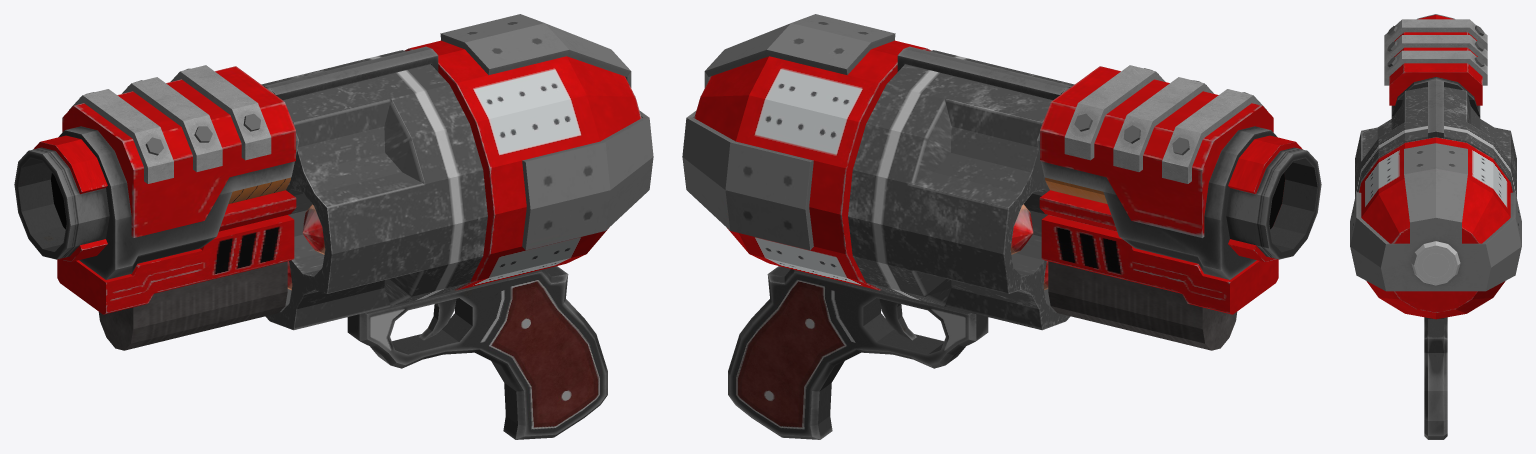
File: chickenlauncher.fbx
3 views of the same model, side by side, from view 1: azimuth 30°, elevation 25°; view 2: azimuth 150°, elevation 25°; view 3: azimuth 270°, elevation 25° (orthographic). The views are drawn at different scales.
Parts seen in each view (by area): view 1: BulletHold_low, End_low, Handle_low, EndCon_low, GunTop_low, Con_low, Hold_low, BarrelCon_low, Barrel_low, HandleCon_low, GunTop03_low, GunTop01_low (+7 smaller); view 2: BulletHold_low, End_low, Handle_low, EndCon_low, GunTop_low, Con_low, Hold_low, BarrelCon_low, Barrel_low, GunTop03_low, HandleCon_low, GunTop02_low (+7 smaller); view 3: EndCon_low, End_low, BulletHold_low, Handle_low, GunTop_low, EndEnd_low, GunTop03_low, GunTop01_low, GunTop02_low, HandleCon_low, BarrelCon_low, Bolts_low.
Boxes of the visible parts, bbox=[...] form: BulletHold_low: bbox=[261, 50, 487, 330]; End_low: bbox=[404, 40, 641, 290]; Handle_low: bbox=[347, 266, 607, 439]; EndCon_low: bbox=[440, 14, 653, 250]; GunTop_low: bbox=[62, 66, 295, 237]; Con_low: bbox=[57, 215, 294, 314]; Hold_low: bbox=[98, 261, 287, 350]; BarrelCon_low: bbox=[58, 87, 298, 279]; Barrel_low: bbox=[14, 147, 109, 259]; HandleCon_low: bbox=[264, 46, 438, 99]; GunTop03_low: bbox=[170, 65, 271, 160]; GunTop01_low: bbox=[69, 89, 173, 183]; BulletHold_low: bbox=[848, 50, 1074, 330]; End_low: bbox=[694, 40, 931, 290]; Handle_low: bbox=[728, 266, 988, 439]; EndCon_low: bbox=[682, 14, 895, 250]; GunTop_low: bbox=[1040, 66, 1273, 237]; Con_low: bbox=[1041, 215, 1278, 314]; Hold_low: bbox=[1048, 261, 1237, 350]; BarrelCon_low: bbox=[1037, 87, 1277, 279]; Barrel_low: bbox=[1226, 147, 1321, 259]; GunTop03_low: bbox=[1064, 65, 1165, 160]; HandleCon_low: bbox=[897, 46, 1071, 99]; GunTop02_low: bbox=[1113, 77, 1213, 171]; EndCon_low: bbox=[1350, 143, 1521, 291]; End_low: bbox=[1359, 137, 1512, 319]; BulletHold_low: bbox=[1355, 87, 1516, 197]; Handle_low: bbox=[1424, 317, 1447, 439]; GunTop_low: bbox=[1389, 32, 1482, 105]; EndEnd_low: bbox=[1411, 241, 1460, 285]; GunTop03_low: bbox=[1384, 50, 1487, 85]; GunTop01_low: bbox=[1384, 19, 1487, 50]; GunTop02_low: bbox=[1384, 35, 1487, 66]; HandleCon_low: bbox=[1428, 80, 1443, 318]; BarrelCon_low: bbox=[1391, 77, 1480, 118]; Bolts_low: bbox=[1387, 25, 1484, 67].
Size of the model in its own units: 97.02 by 68.68 by 38.38.
